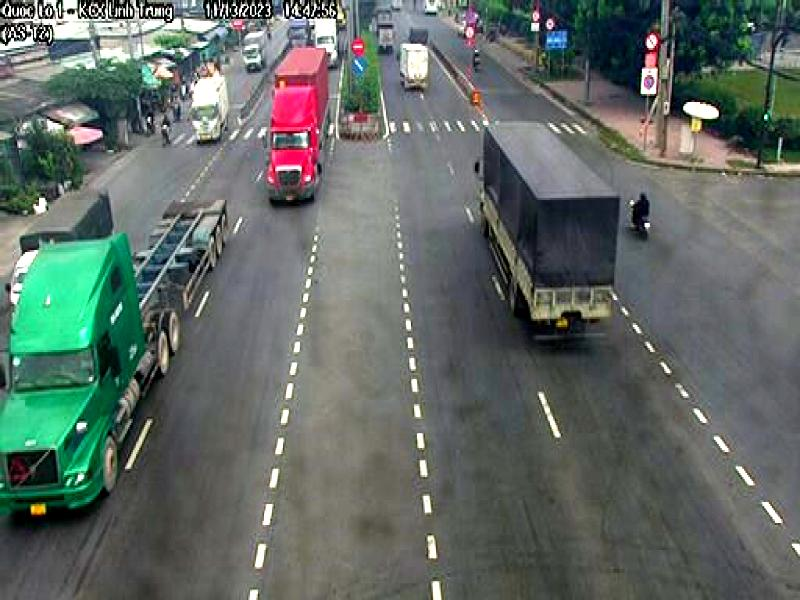truck: (0, 229, 148, 514), (262, 80, 324, 210)
